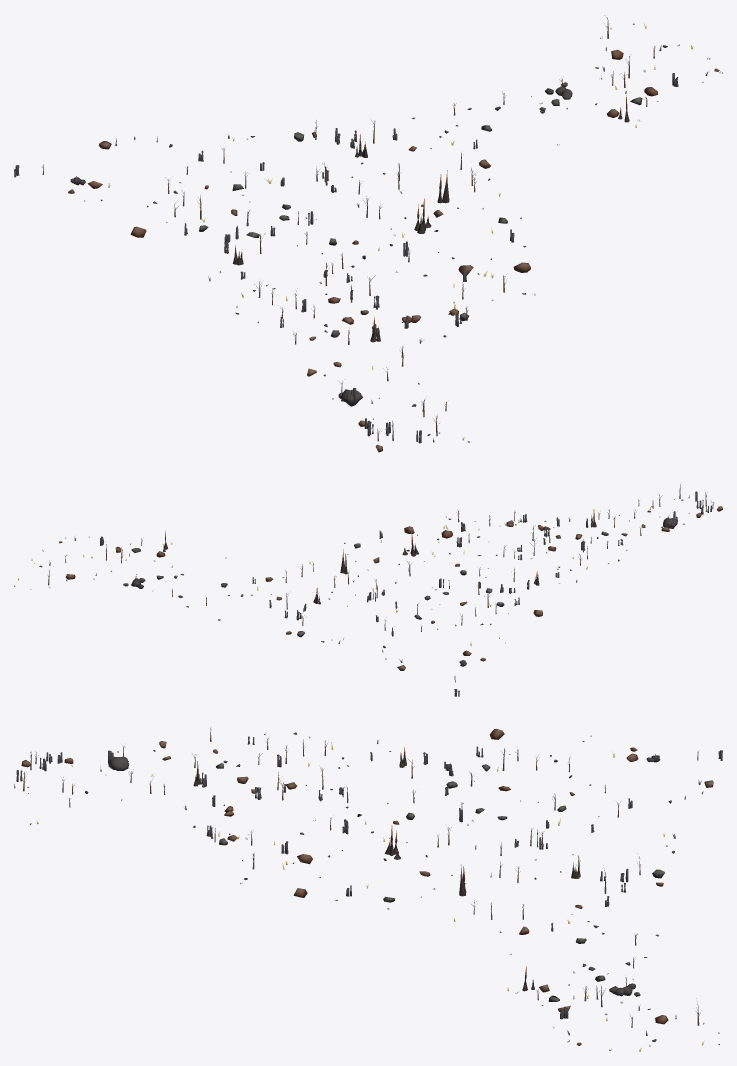
File: ash_land_scatter_c15_29.glb
3 views of the same model, one above another, from view 1: azimuth 30°, elevation 25°; view 2: azimuth 150°, elevation 25°; view 3: azimuth 270°, elevation 25° (orthographic). The views are drawn at different scales.
Parts seen in each view (by area): view 1: ash_land_scatter_c15_29; view 2: ash_land_scatter_c15_29; view 3: ash_land_scatter_c15_29.
Boxes of the visible parts, x1=… form: ash_land_scatter_c15_29: x1=14, y1=15, x2=722, y2=452; ash_land_scatter_c15_29: x1=14, y1=484, x2=722, y2=696; ash_land_scatter_c15_29: x1=14, y1=727, x2=722, y2=1051.
Size of the model in its own units: 255 by 27.26 by 256.
